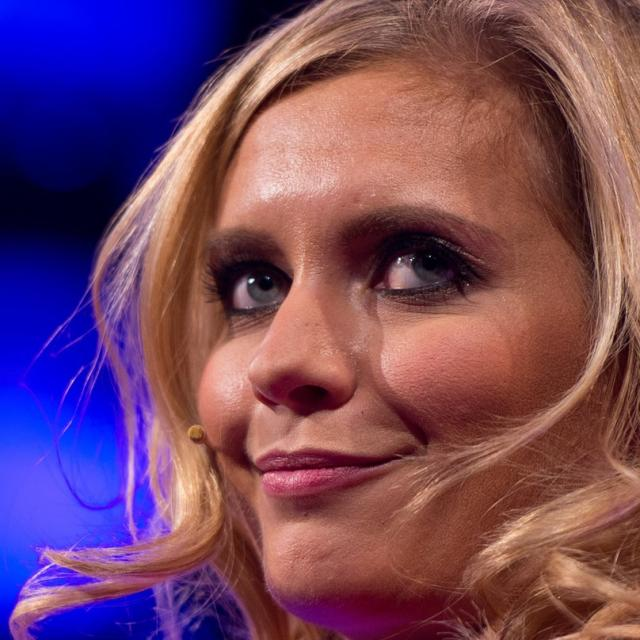Normal: (193, 52, 615, 639)
